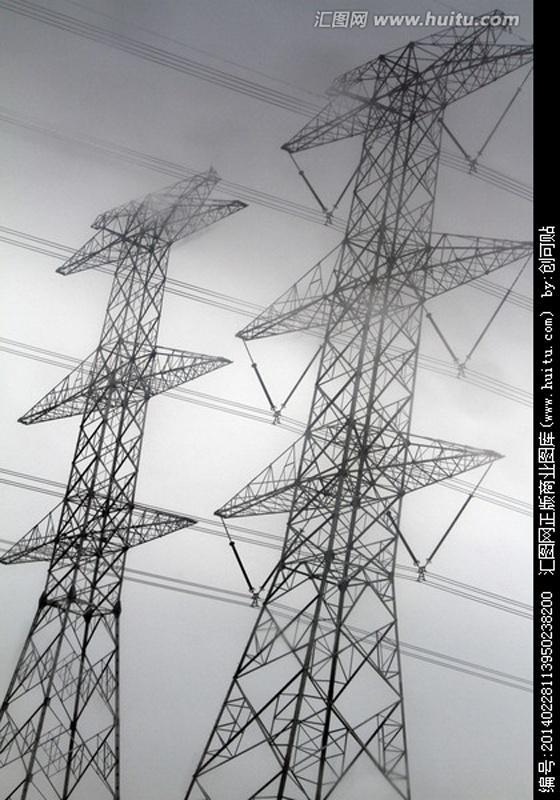power_tower: (182, 6, 533, 800), (0, 164, 249, 800)
